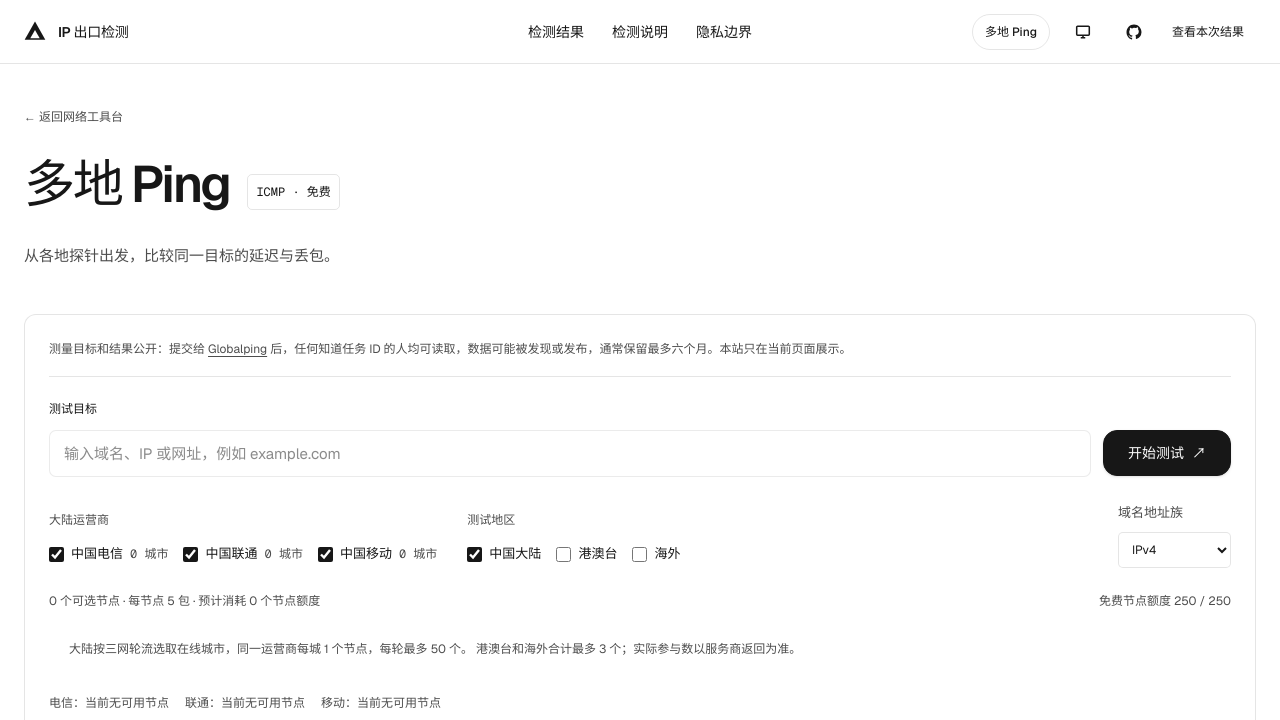
Test: 多地 Ping 独立页面 › 不会把中国云节点冒充三网，缺少探针时明确说明且不创建测量
Expected: the text "0 个可选节点 · 每节点 5 包 · 预计消耗 0 个节点额度" is shown, [49,590,320,614]
Expected: the text "电信：当前无可用节点" is shown, [49,691,169,715]
In the field labelled "测试目标": (570, 454) [49,430,1091,478], type "example.com"
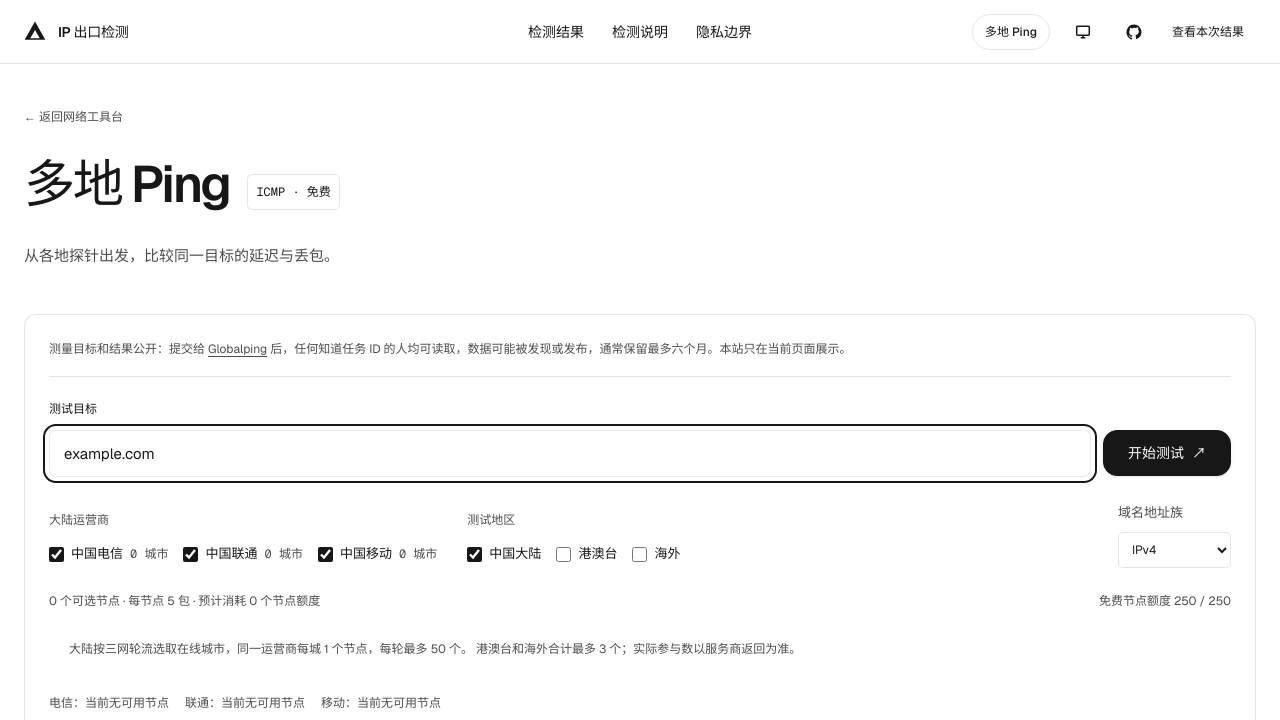
Click the button "开始测试 ↗": (1167, 454) [1103,430,1231,476]
(page scrolled)
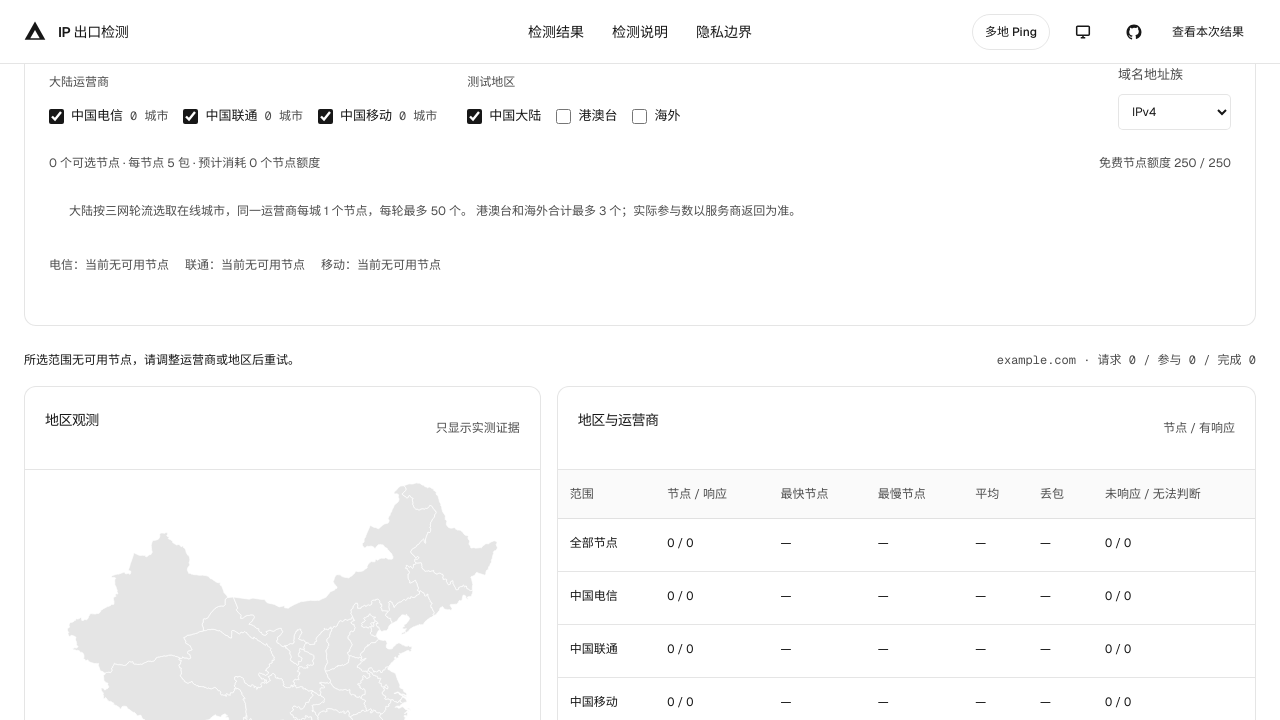
Expected: the text "所选范围无可用节点，请调整运营商或地区后重试。" is shown, [24,350,300,370]
